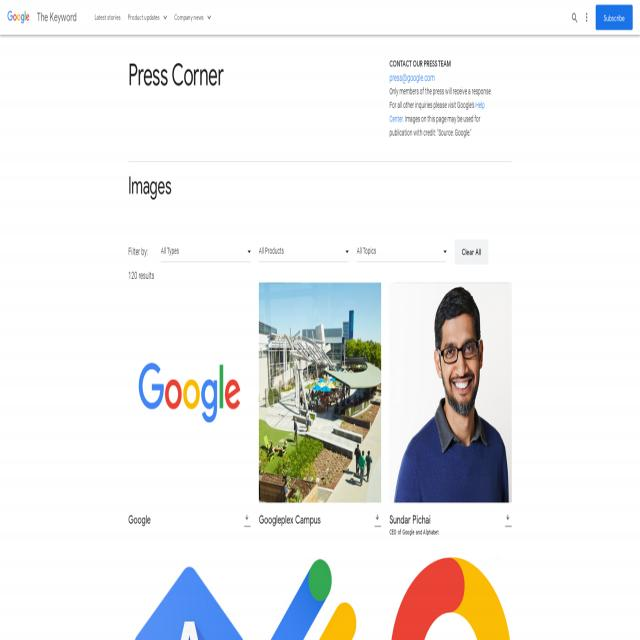button: (111, 542, 522, 640), (128, 282, 251, 503), (389, 282, 512, 503), (259, 282, 381, 503), (170, 0, 215, 35), (124, 1, 170, 34), (91, 0, 124, 34), (596, 4, 633, 30), (455, 240, 488, 264), (7, 11, 30, 23), (583, 10, 590, 26), (245, 245, 252, 258), (344, 245, 351, 258), (442, 245, 448, 258), (505, 513, 512, 524), (572, 11, 578, 23), (244, 513, 250, 524), (375, 513, 381, 524)
field: (161, 241, 251, 262), (259, 241, 349, 262), (357, 241, 447, 262)
